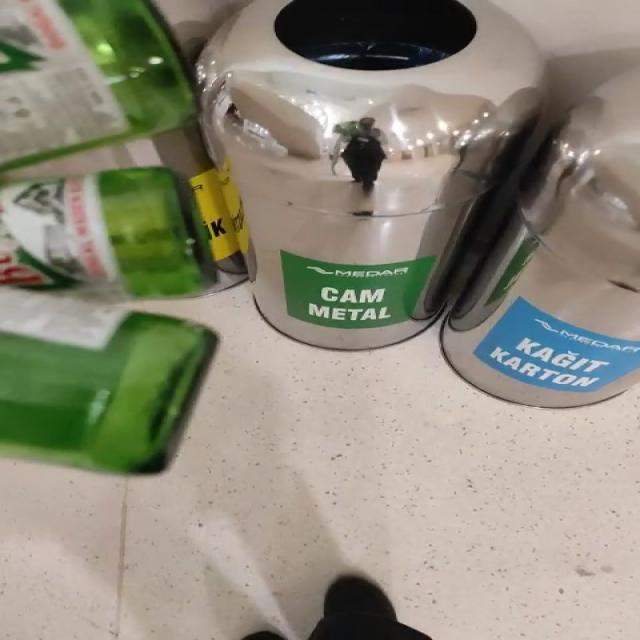bin: (197, 0, 544, 350)
glass: (3, 290, 215, 474), (1, 0, 195, 170), (0, 165, 227, 299)
